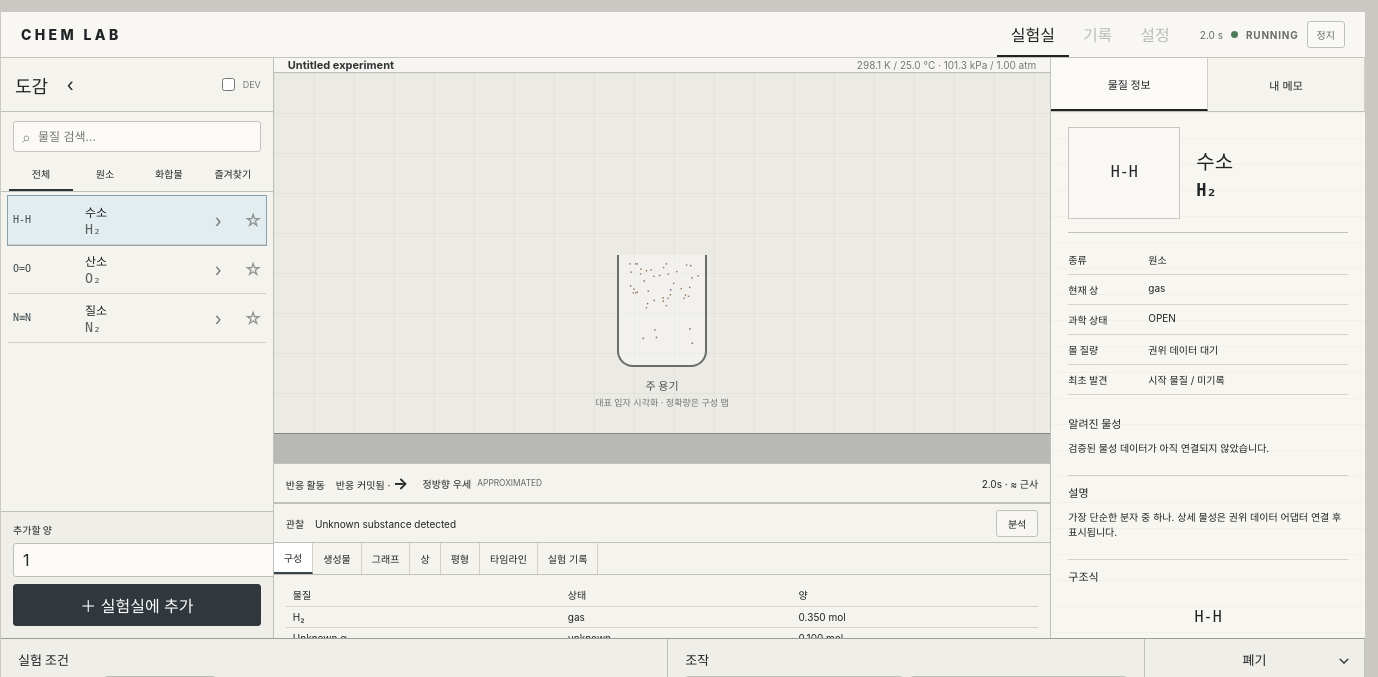
Scenario: Phase 3B production workspace integration › keeps Phase 3A timeline dedupe and unknown identity privacy after Phase 3B enrichment
The image size is (1378, 677).
Click the button "타임라인".
click(509, 558)  # box [480, 543, 538, 574]
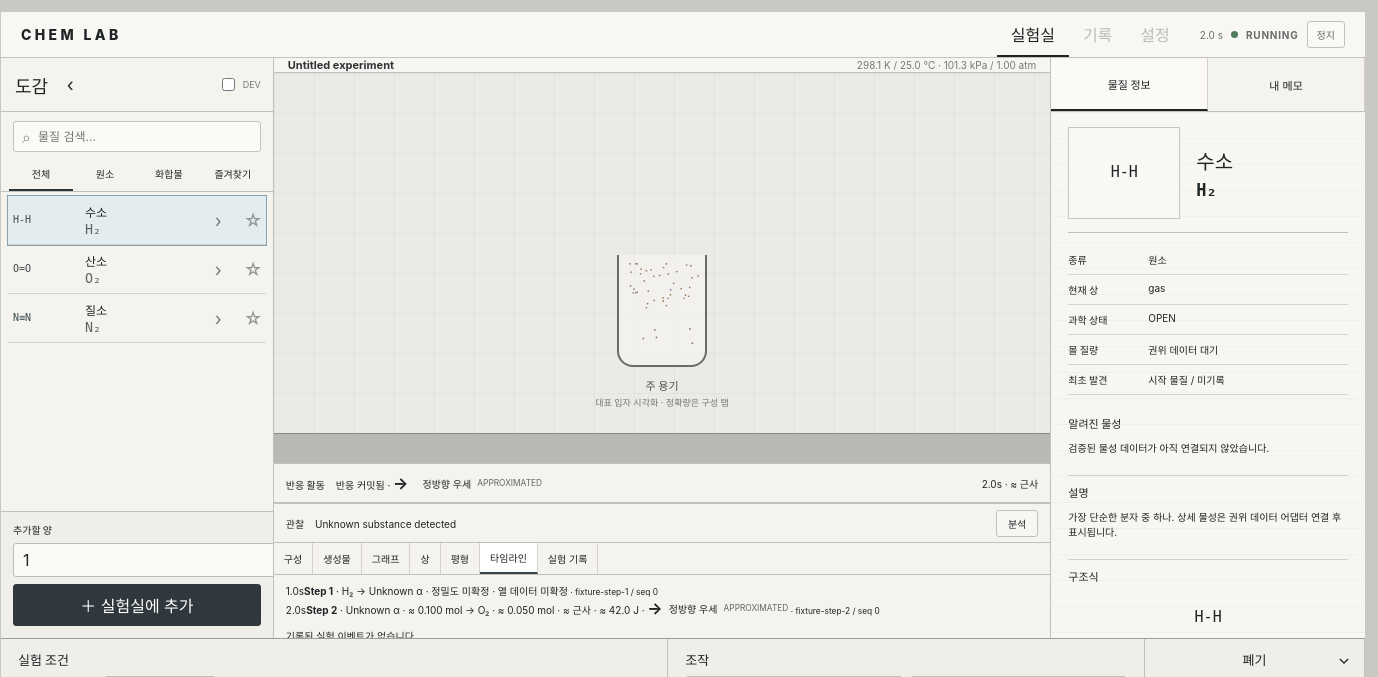
Expected: the element named "반응 타임라인" does not show "generated:fixture-water", [286, 585, 880, 618]
Now the number of elements named "반응 단계" is 2, box [286, 585, 658, 597]; [286, 598, 880, 618]
Now the element named "반응 타임라인" shows "Unknown α", box [369, 585, 423, 597]
